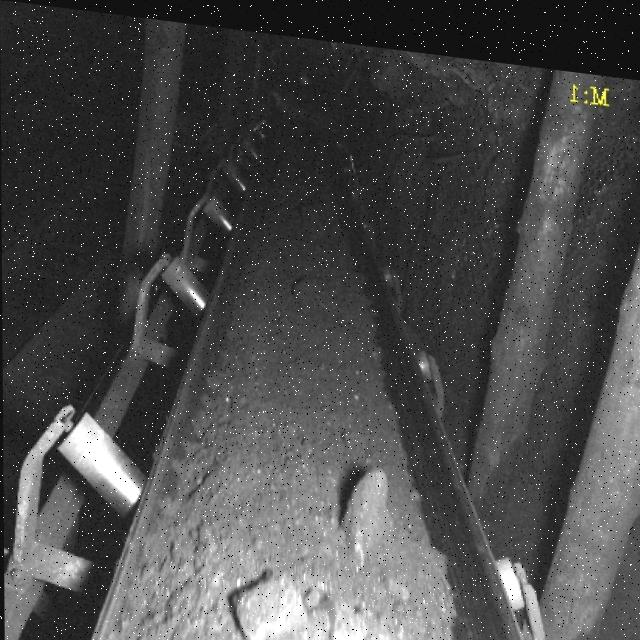large_sized_coal: (233, 560, 308, 638), (333, 454, 394, 548), (306, 582, 367, 640)
